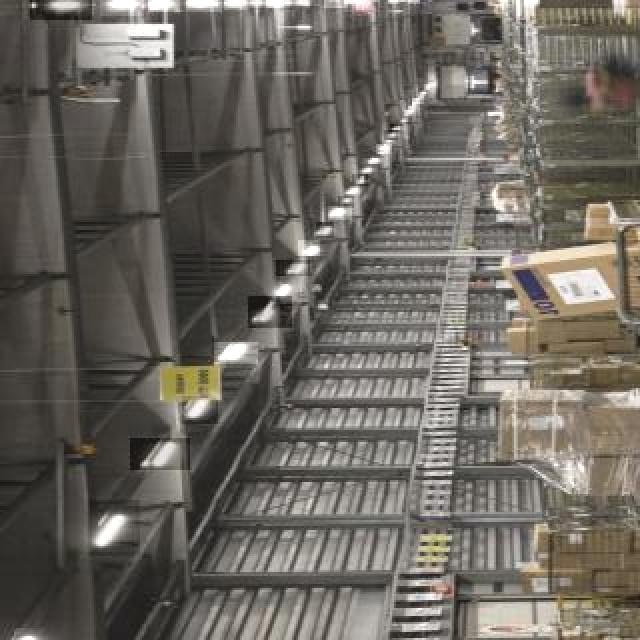fluorescent tube: (85, 495, 142, 557), (127, 431, 191, 467), (218, 331, 269, 371), (240, 295, 284, 329), (180, 389, 218, 422), (40, 0, 96, 18), (4, 620, 52, 640), (120, 0, 172, 18), (174, 0, 220, 20), (90, 0, 146, 16), (218, 0, 260, 14), (269, 278, 295, 300), (212, 0, 252, 12)
